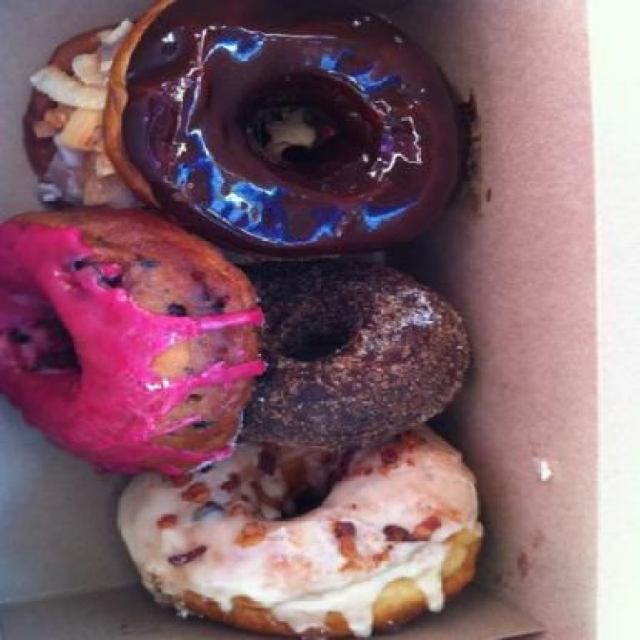Donuts: (3, 2, 519, 640)
